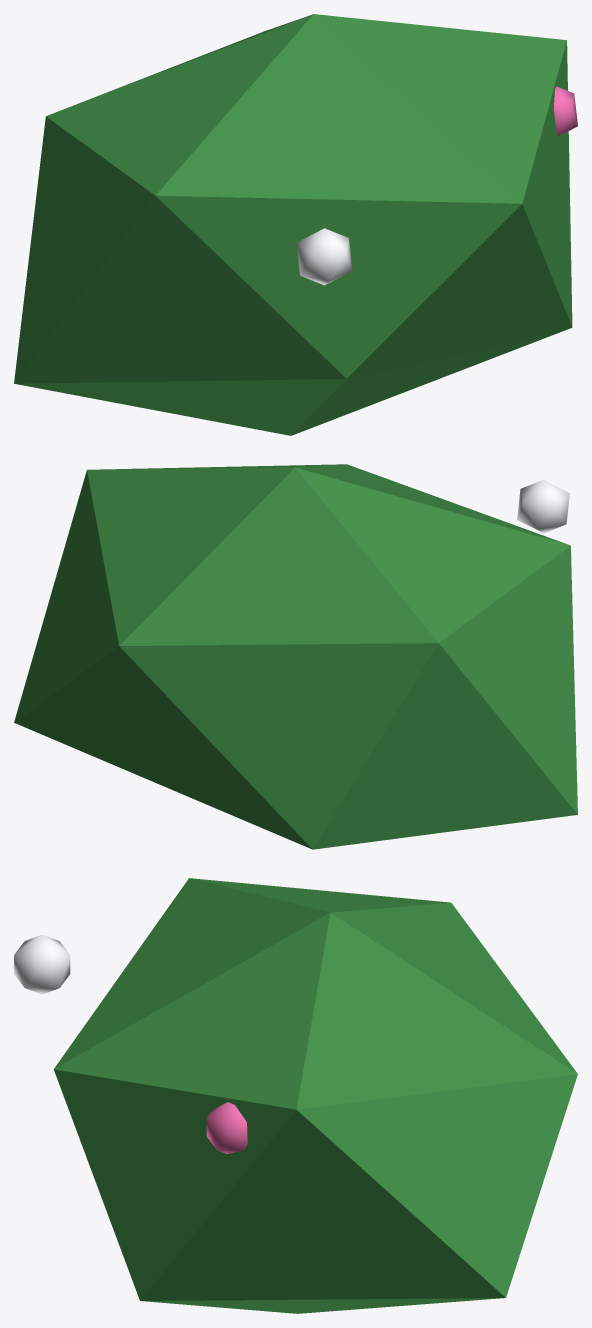
File: bush.glb
The picture shows the model from 3 angles, top to bottom: view 1: azimuth 30°, elevation 25°; view 2: azimuth 150°, elevation 25°; view 3: azimuth 270°, elevation 25°; orthographic projection. The views are drawn at different scales.
Parts seen in each view (by area): view 1: g_m_3f8f46, g_m_f8fafc, g_m_f472b6; view 2: g_m_3f8f46, g_m_f8fafc; view 3: g_m_3f8f46, g_m_f8fafc, g_m_f472b6.
Boxes of the visible parts, x1,y1,x2,y2 form: g_m_3f8f46: (14,14,572,435); g_m_f8fafc: (296,228,352,285); g_m_f472b6: (553,86,577,135); g_m_3f8f46: (14,464,577,849); g_m_f8fafc: (517,480,569,533); g_m_3f8f46: (53,878,577,1313); g_m_f8fafc: (14,934,70,994); g_m_f472b6: (206,1102,247,1153).
Bounding box in the file's own units: 1.77 × 1.26 × 1.53.
